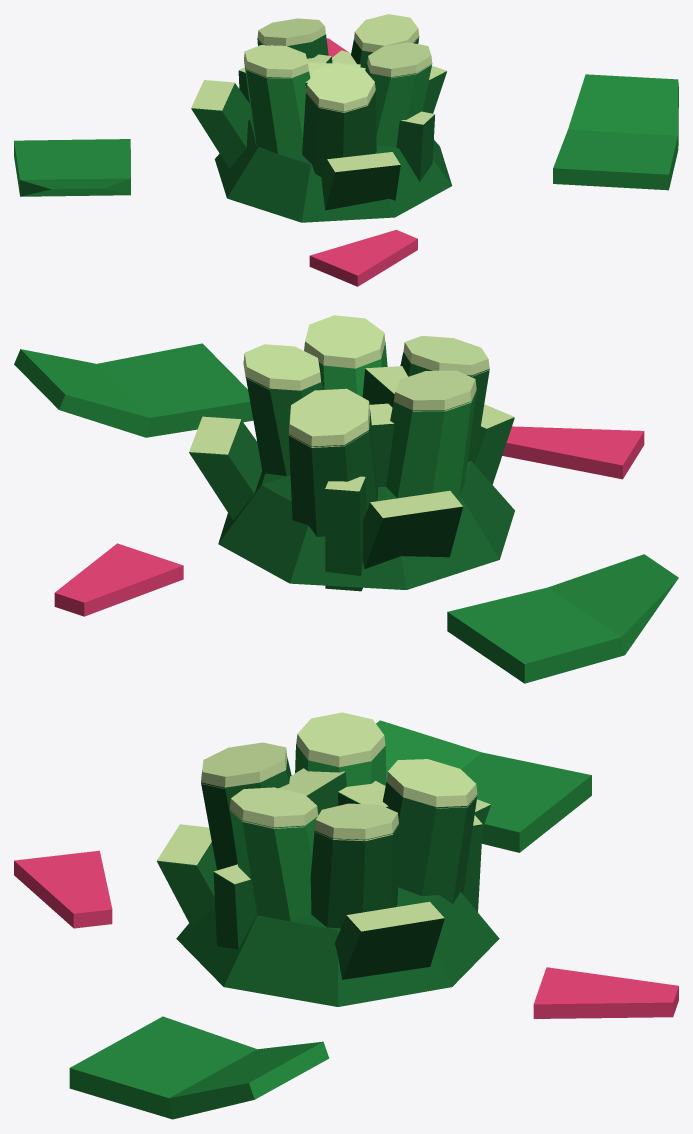
The model's file is tuft_jungle_cut.glb.
3 views of the same model, one above another, from view 1: azimuth 30°, elevation 25°; view 2: azimuth 150°, elevation 25°; view 3: azimuth 270°, elevation 25° (orthographic). The views are drawn at different scales.
Visible parts, largest first — view 1: Grass__1E8C3A, Grass__126028, SmoothPlastic__CCEAA0, SmoothPlastic__F04078; view 2: Grass__1E8C3A, Grass__126028, SmoothPlastic__CCEAA0, SmoothPlastic__F04078; view 3: Grass__126028, Grass__1E8C3A, SmoothPlastic__CCEAA0, SmoothPlastic__F04078.
Part boxes in pixels (<box>): Grass__1E8C3A: <box>14,61,678,196</box>; Grass__126028: <box>191,34,452,222</box>; SmoothPlastic__CCEAA0: <box>191,14,446,172</box>; SmoothPlastic__F04078: <box>309,38,417,286</box>; Grass__1E8C3A: <box>14,342,678,683</box>; Grass__126028: <box>189,352,514,591</box>; SmoothPlastic__CCEAA0: <box>189,315,514,517</box>; SmoothPlastic__F04078: <box>54,426,644,616</box>; Grass__126028: <box>157,758,499,1006</box>; Grass__1E8C3A: <box>69,720,591,1119</box>; SmoothPlastic__CCEAA0: <box>157,712,490,931</box>; SmoothPlastic__F04078: <box>14,850,678,1018</box>.
Size of the model in its own units: 5.44 by 1.22 by 4.11.
